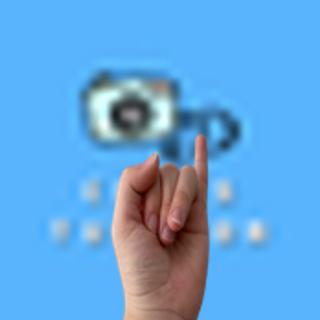Fine: (99, 127, 218, 315)
